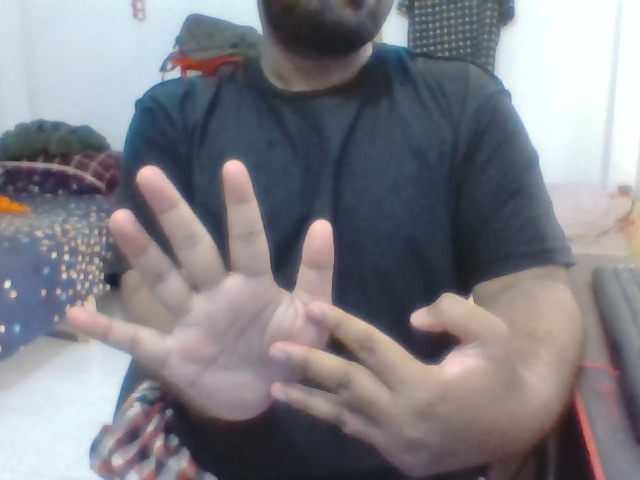M: (47, 157, 527, 475)
